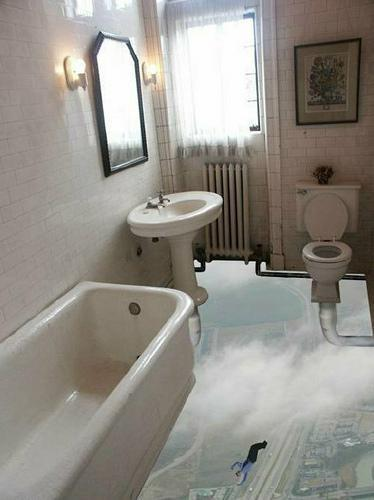Lavamanos: (125, 179, 232, 305)
Sanitario: (294, 172, 364, 310)
